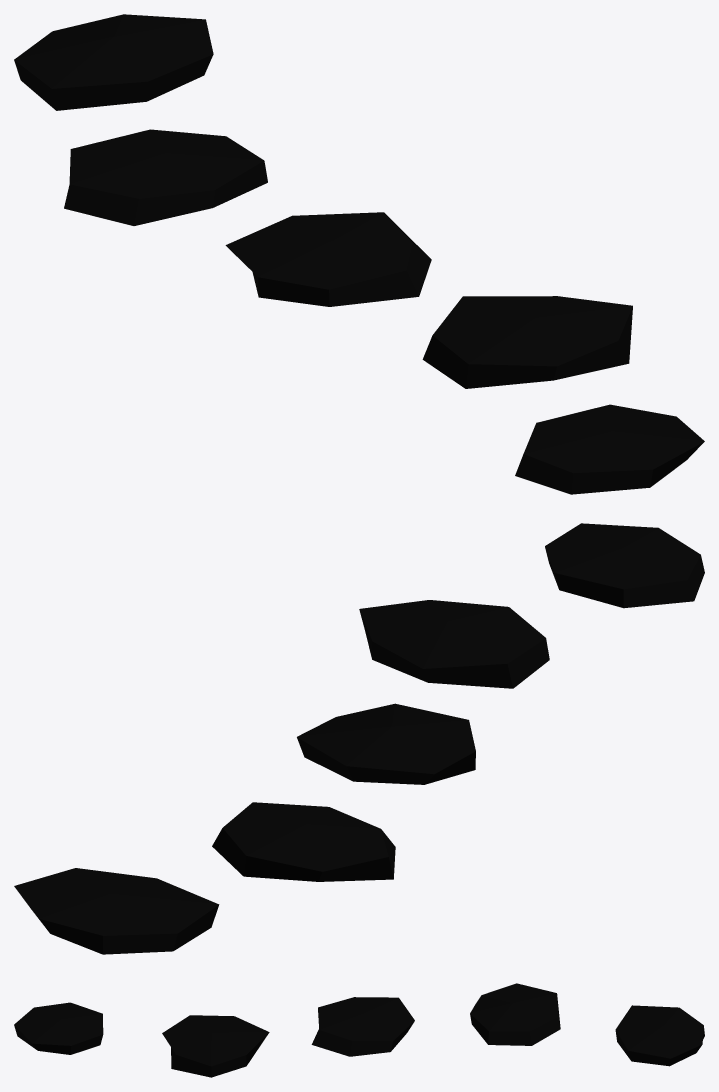
Rendered from SM_stepping_stones.fbx.
3 views of the same model, one above another, from view 1: azimuth 30°, elevation 25°; view 2: azimuth 150°, elevation 25°; view 3: azimuth 270°, elevation 25° (orthographic). The views are drawn at different scales.
Parts seen in each view (by area): view 1: stepping_stones; view 2: stepping_stones; view 3: stepping_stones.
Boxes of the visible parts, bbox=[...] form: stepping_stones: bbox=[14, 14, 704, 494]; stepping_stones: bbox=[14, 523, 704, 954]; stepping_stones: bbox=[14, 983, 704, 1077].
Size of the model in its own units: 0.8013 by 0.1111 by 2.75.
